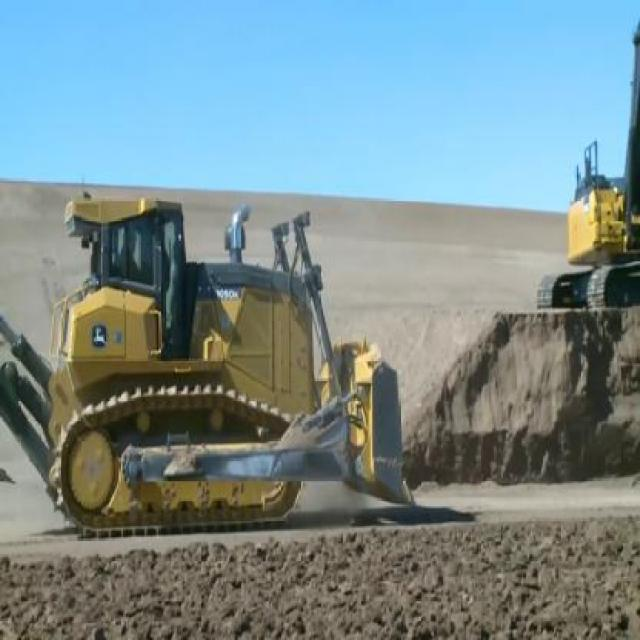Bulldozer: (2, 193, 416, 539)
Excavator: (541, 15, 639, 308)
